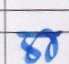i_matra: (42, 28, 56, 62)
